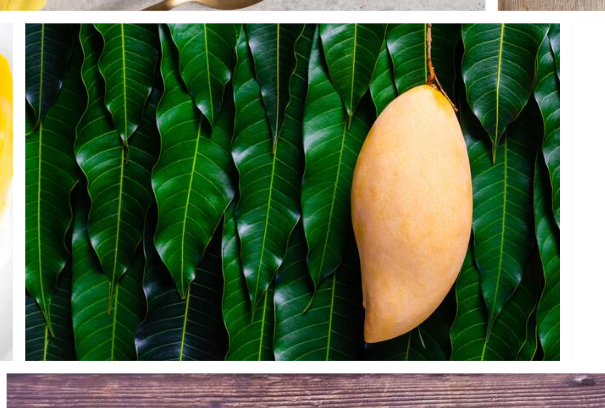mango: (347, 85, 474, 344)
